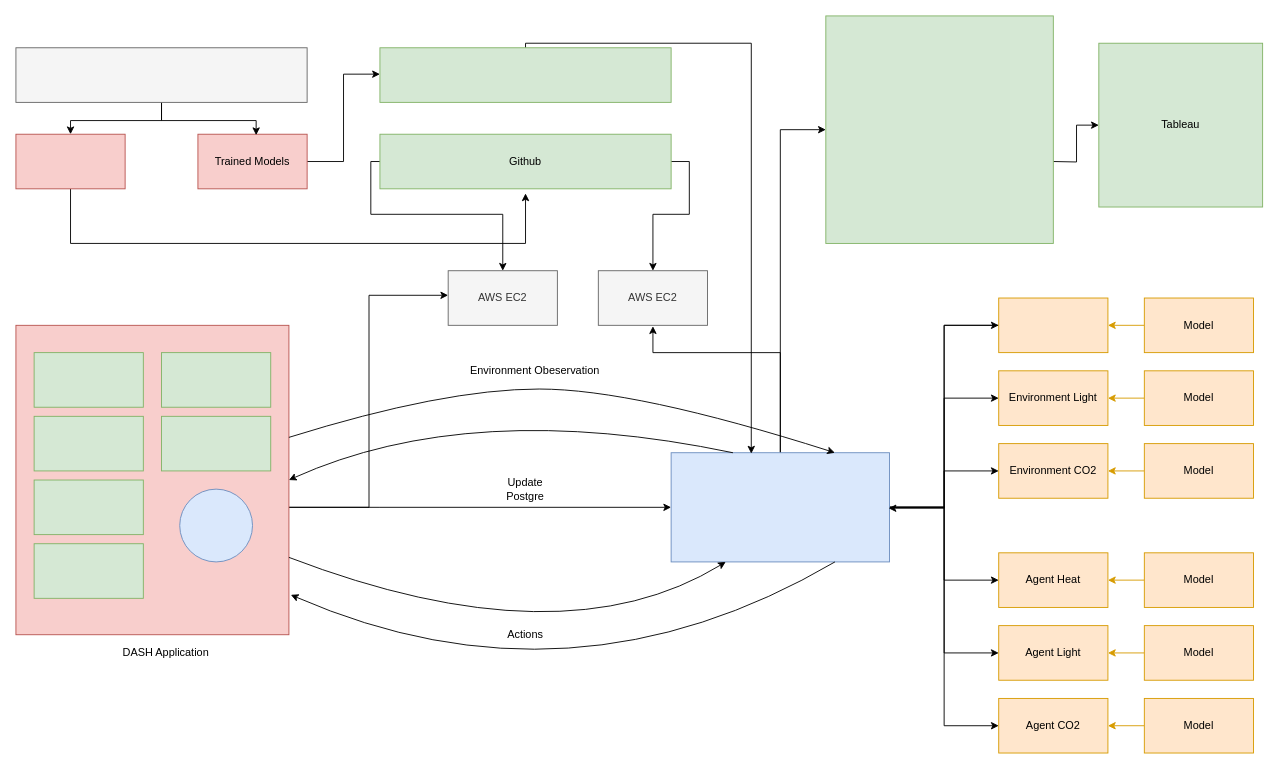
Some shapes in this 1279 by 769 pixel diagram are drawn without their labels. Here are the shapes that lost their labels. From the top down, the centre of each, then its label:
At [161,74]: "Local System".
At [525,74]: "AWS S3".
At [939,129]: "Postgres on AWS RDS".
At [70,161]: "Web Application Code".
At [1053,325]: "Environment Heat".
At [216,525]: "Start Simulat".
At [780,507]: "Backend API Server or AWS Lambda".
